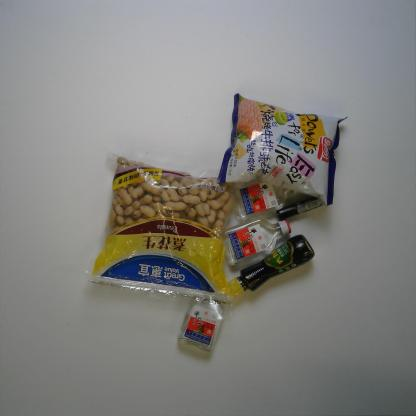Alcohol: (222, 214, 292, 268), (175, 296, 226, 354), (231, 180, 296, 224)
Dried Food: (80, 148, 242, 312)
Puffed Food: (216, 92, 348, 207)
Seasoner: (227, 233, 316, 299)
Stationery: (276, 195, 324, 222)
